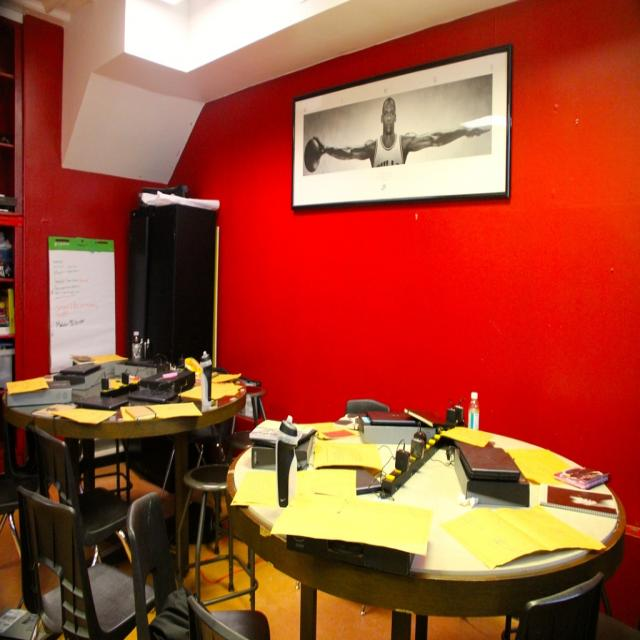chair: (14, 486, 156, 638), (176, 404, 258, 603), (30, 422, 131, 568), (518, 570, 610, 637), (187, 593, 271, 638)
desk: (4, 362, 242, 617)
